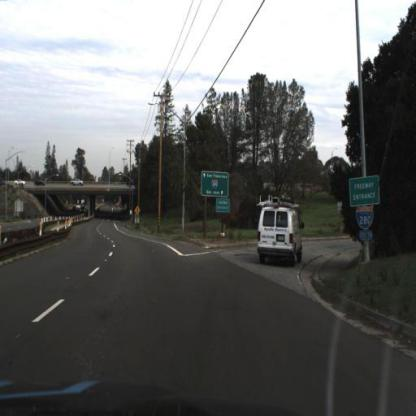car: (259, 200, 304, 268), (32, 177, 48, 191), (15, 178, 31, 188), (71, 178, 85, 187)
